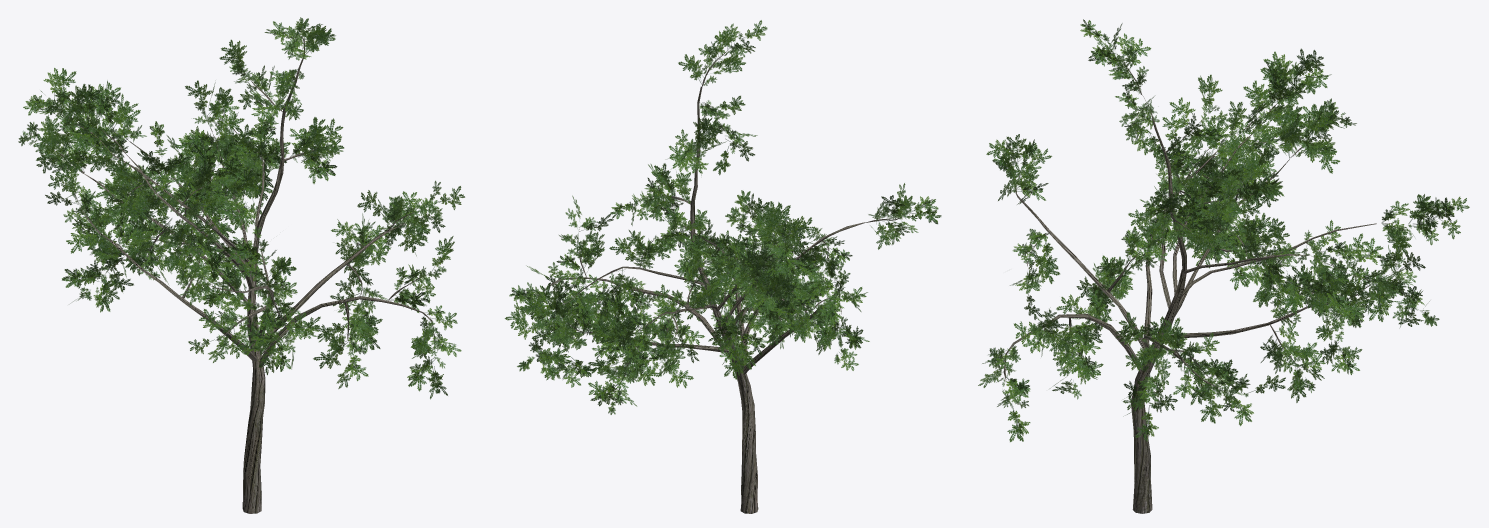
File: fresno_joven.glb
The picture shows the model from 3 angles, left to right: view 1: azimuth 30°, elevation 25°; view 2: azimuth 150°, elevation 25°; view 3: azimuth 270°, elevation 25°; orthographic projection. The views are drawn at different scales.
Parts seen in each view (by area): view 1: fresno_joven_hojas, fresno_joven_ramas; view 2: fresno_joven_hojas, fresno_joven_ramas; view 3: fresno_joven_hojas, fresno_joven_ramas.
Part boxes in pixels (<box>): fresno_joven_hojas: <box>18,17,464,399</box>; fresno_joven_ramas: <box>60,36,435,513</box>; fresno_joven_hojas: <box>504,20,941,414</box>; fresno_joven_ramas: <box>538,50,903,513</box>; fresno_joven_hojas: <box>978,19,1469,442</box>; fresno_joven_ramas: <box>1003,54,1395,513</box>.
Size of the model in its own units: 3.71 by 4.71 by 4.25.
Materials: 2 (2 with a texture image).
